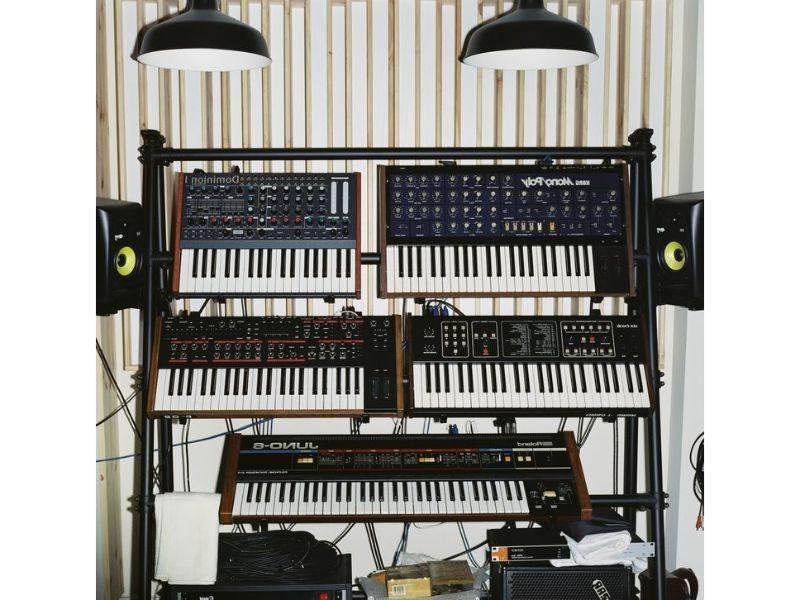synthesizer: (207, 425, 595, 519), (369, 158, 617, 301), (399, 311, 650, 411), (171, 158, 356, 292), (153, 317, 361, 411)
